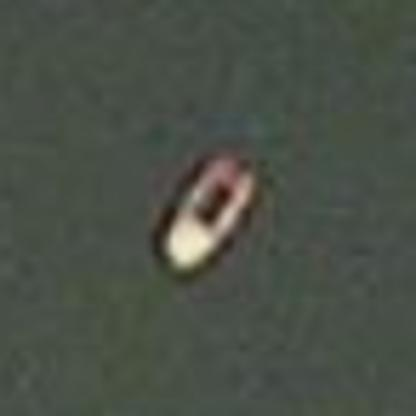ship: (146, 146, 270, 291)
